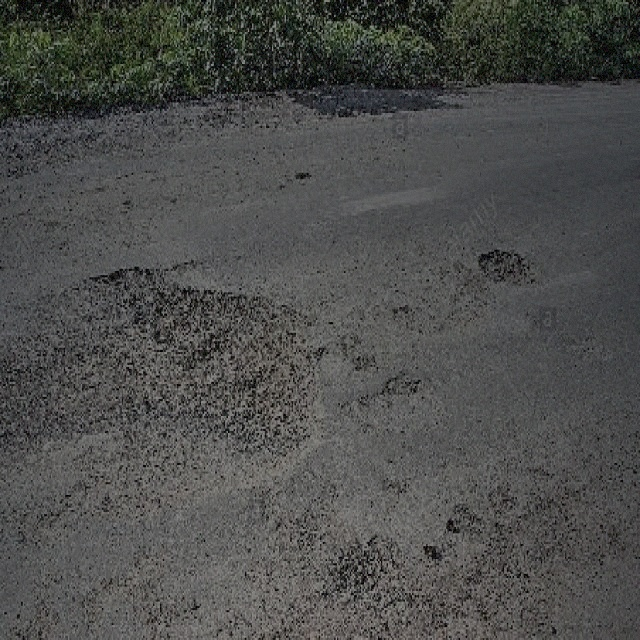pothole: (85, 260, 320, 480), (474, 241, 538, 290), (440, 502, 483, 534), (378, 371, 423, 397), (419, 542, 445, 563), (292, 166, 312, 184)
